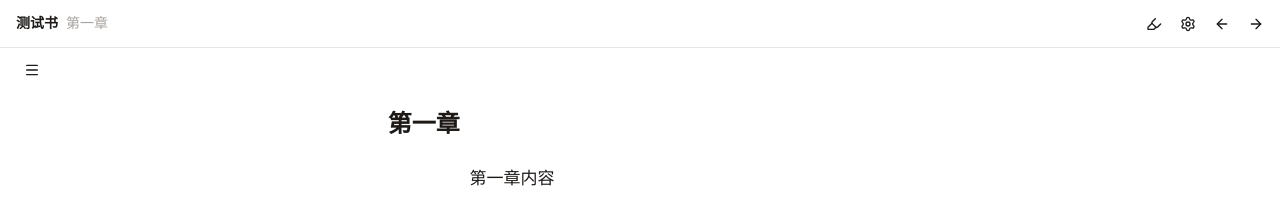
Scenario: ReaderView › 上/下章切换正确，边界禁用（首章禁上、末章禁下）
expect the button titled "上一章" is disabled: met, box [1206,10,1238,38]
Click the button titled "下一章" at (1256, 24), box [1240,10,1272,38]
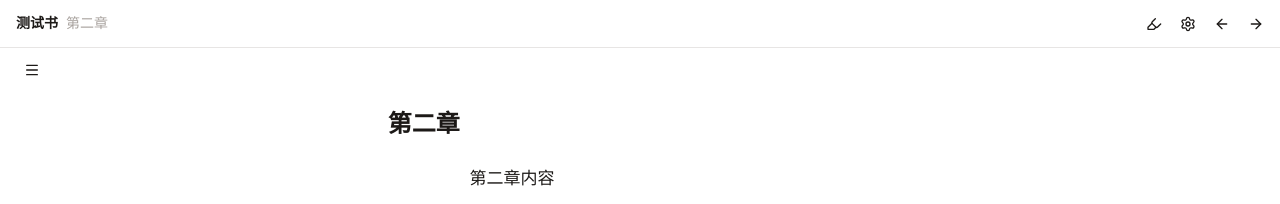
expect the element with class "chapter-content" shows "第二章内容": met, box [470,168,554,188]
Click the button titled "下一章" at (1256, 24), box [1240,10,1272,38]
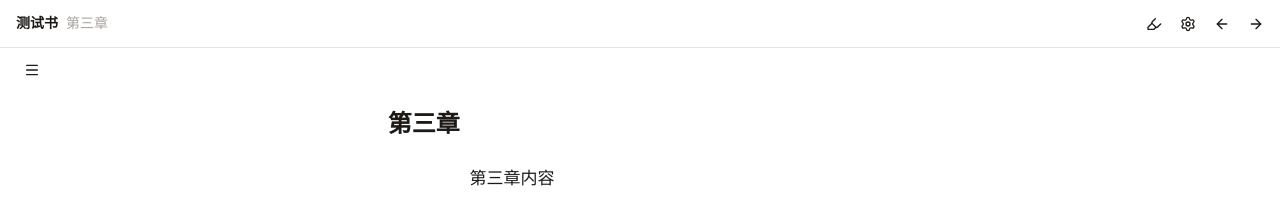
expect the element with class "chapter-content" shows "第三章内容": met, box [470,168,554,188]
Click the button titled "上一章" at (1222, 24), box [1206,10,1238,38]
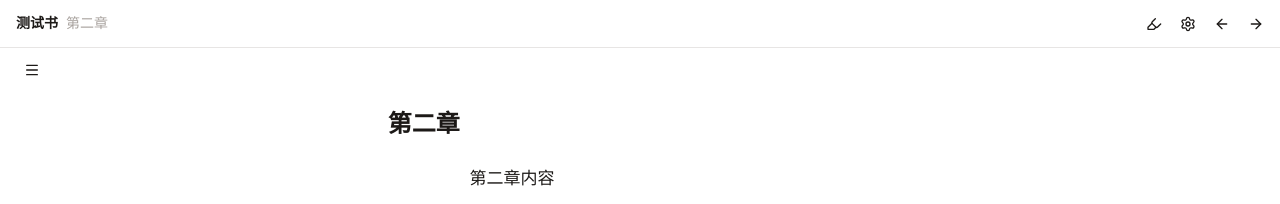
expect the element with class "chapter-content" shows "第二章内容": met, box [470,168,554,188]
